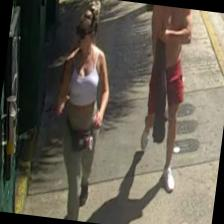person: (41, 0, 120, 222), (130, 4, 195, 190)
